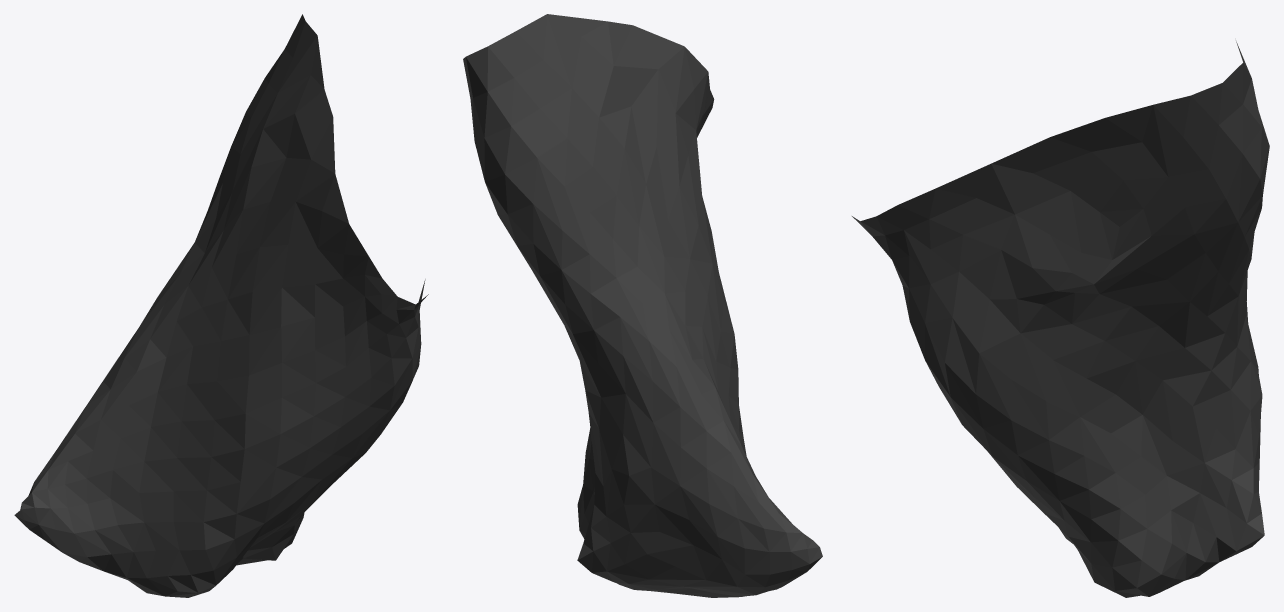
Rendered from ligament_meniscofemoral_e.glb.
3 views of the same model, side by side, from view 1: azimuth 30°, elevation 25°; view 2: azimuth 150°, elevation 25°; view 3: azimuth 270°, elevation 25° (orthographic). The views are drawn at different scales.
Parts seen in each view (by area): view 1: ligament_meniscofemoral_e; view 2: ligament_meniscofemoral_e; view 3: ligament_meniscofemoral_e.
Part boxes in pixels (x1,y1,x2,y2): ligament_meniscofemoral_e: (14,14,428,597); ligament_meniscofemoral_e: (463,14,822,597); ligament_meniscofemoral_e: (852,41,1269,597).
Size of the model in its own units: 0.00112 by 0.00164 by 0.000987.
1 material, 1 textured.
